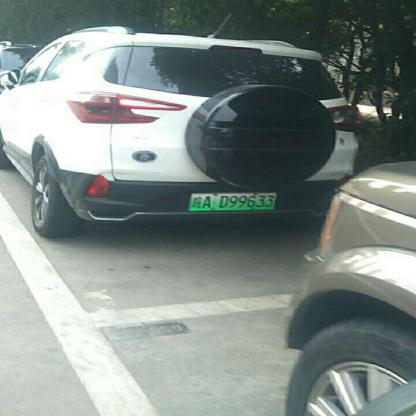lp: (190, 192, 277, 210)
